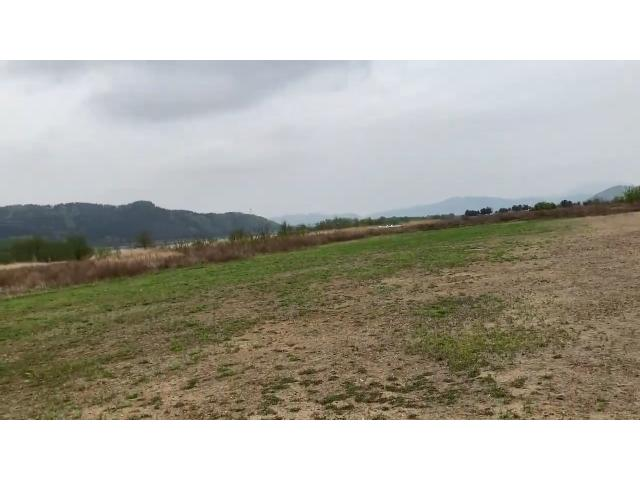Anti-Drone: (374, 223, 406, 232)
